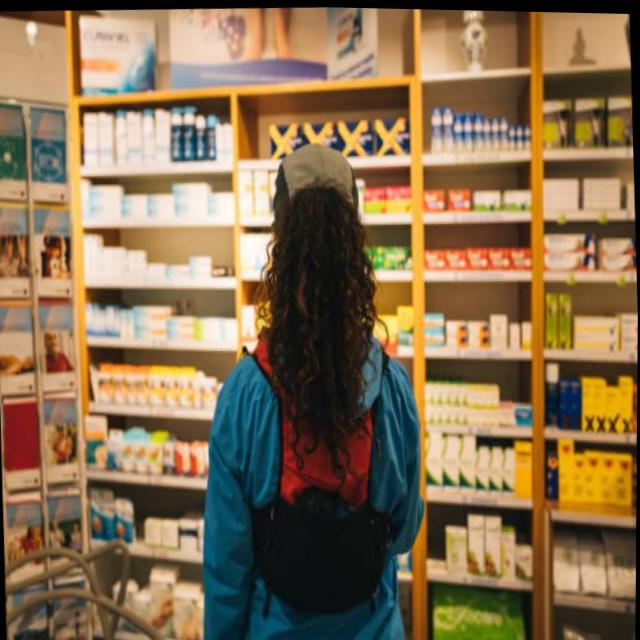no helmet: (252, 137, 379, 349)
